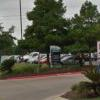Tree: (23, 4, 96, 45)
